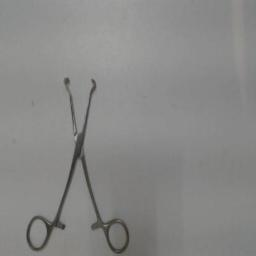Babcock Tissue Forceps: (22, 73, 134, 255)
